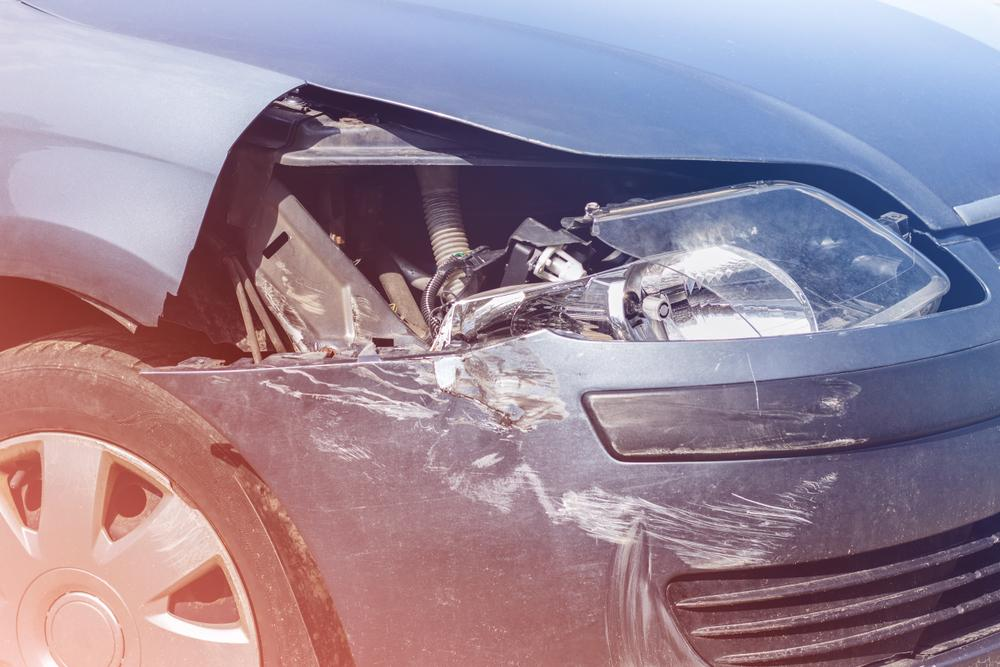lamp broken: (427, 179, 952, 357)
scratch: (256, 341, 863, 667)
